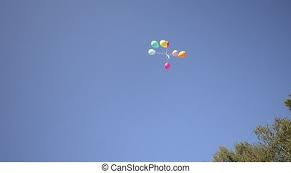Balloon: (160, 40, 169, 48), (148, 48, 156, 56), (151, 41, 159, 48), (178, 51, 186, 57), (165, 62, 171, 69), (172, 50, 178, 56)
